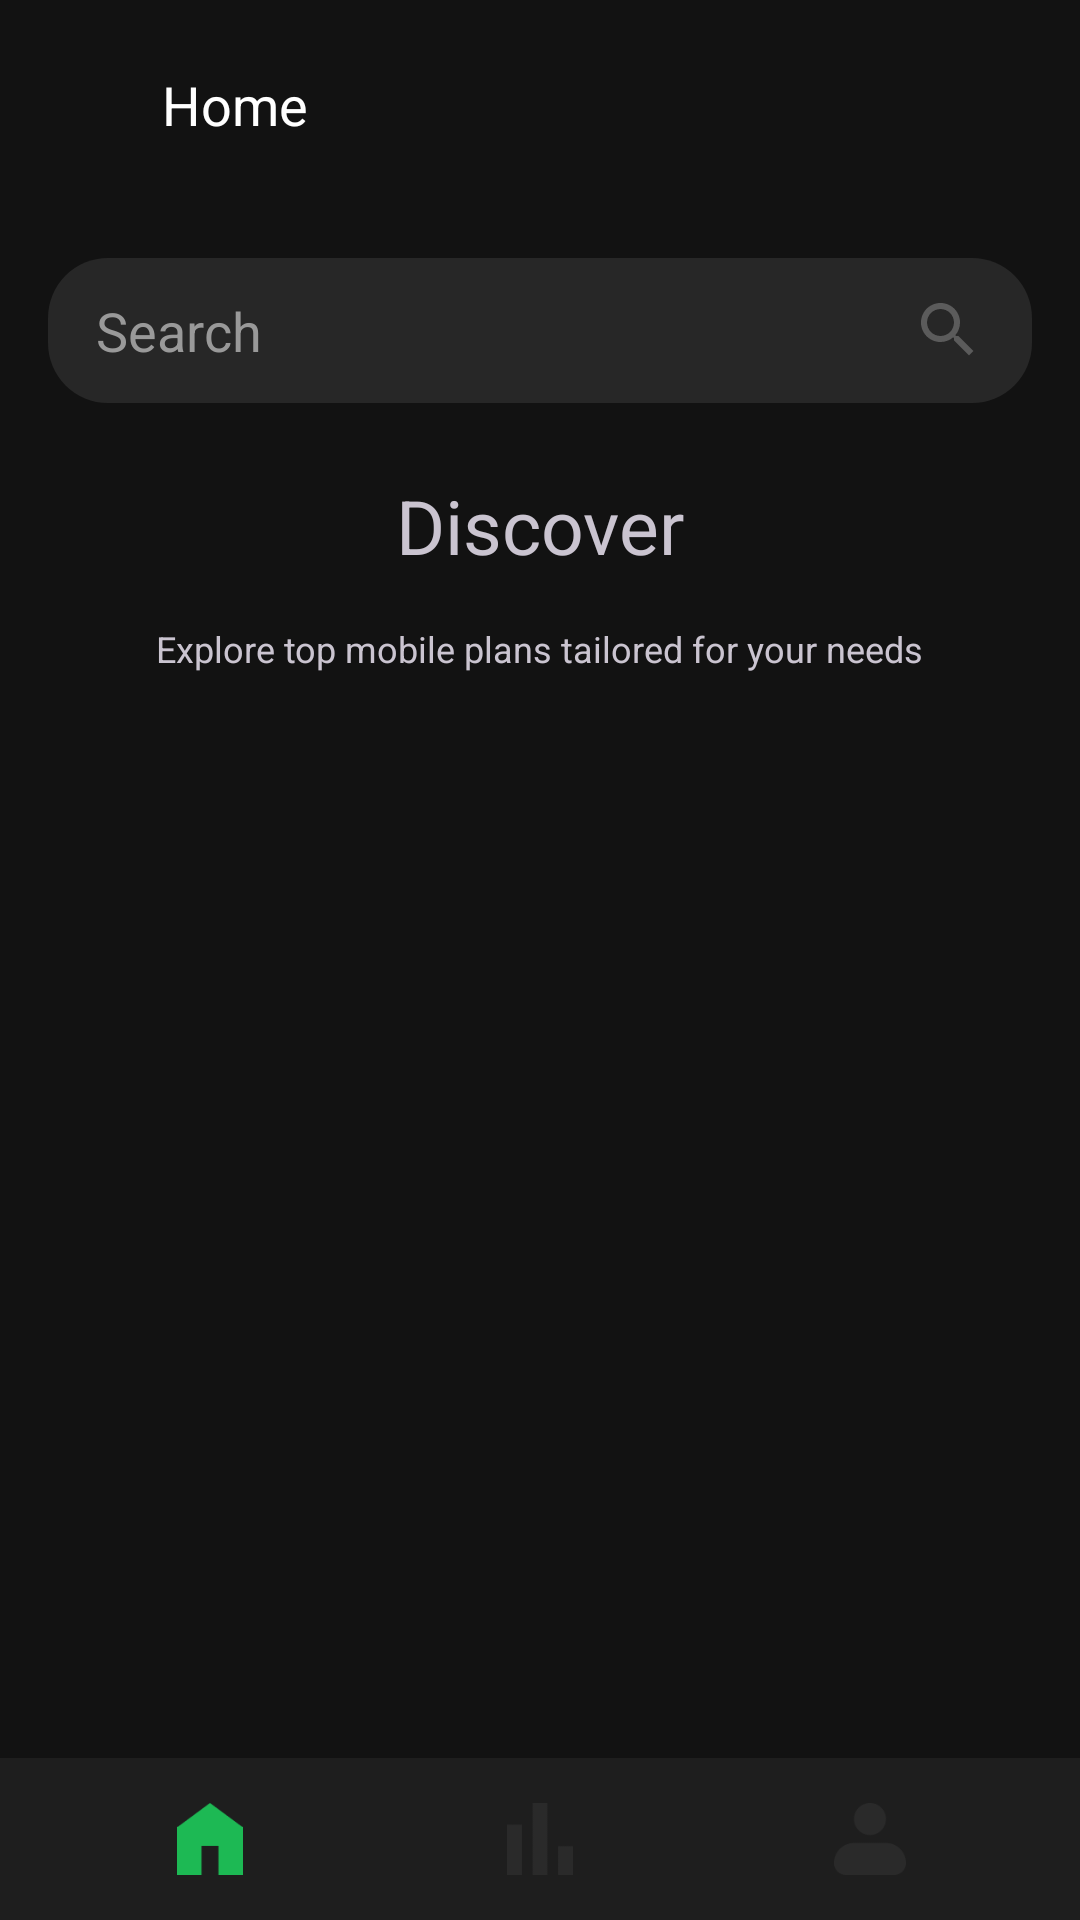

Where to tap for icons on this 1080 x 1920 app screen, as point (x, y):
home: point (210, 1839)
